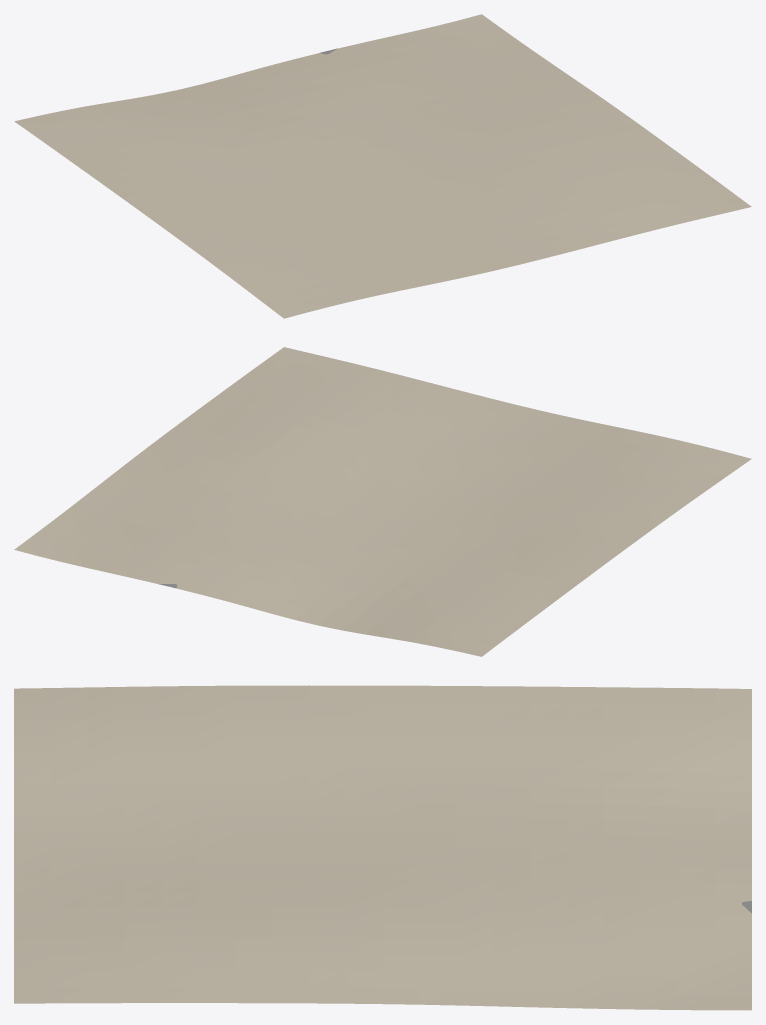
Rendered from bolak_-15_7.glb.
3 views of the same model, one above another, from view 1: azimuth 30°, elevation 25°; view 2: azimuth 150°, elevation 25°; view 3: azimuth 270°, elevation 25° (orthographic). The views are drawn at different scales.
Visible parts, largest first — view 1: Yer_Tuproq-col; view 2: Yer_Tuproq-col; view 3: Yer_Tuproq-col.
Part boxes in pixels (bbox=[...]): Yer_Tuproq-col: bbox=[14, 14, 751, 318]; Yer_Tuproq-col: bbox=[14, 347, 751, 656]; Yer_Tuproq-col: bbox=[14, 685, 751, 1010].
Size of what is drawn, in the model's own units: 400 by 9.2 by 400.
